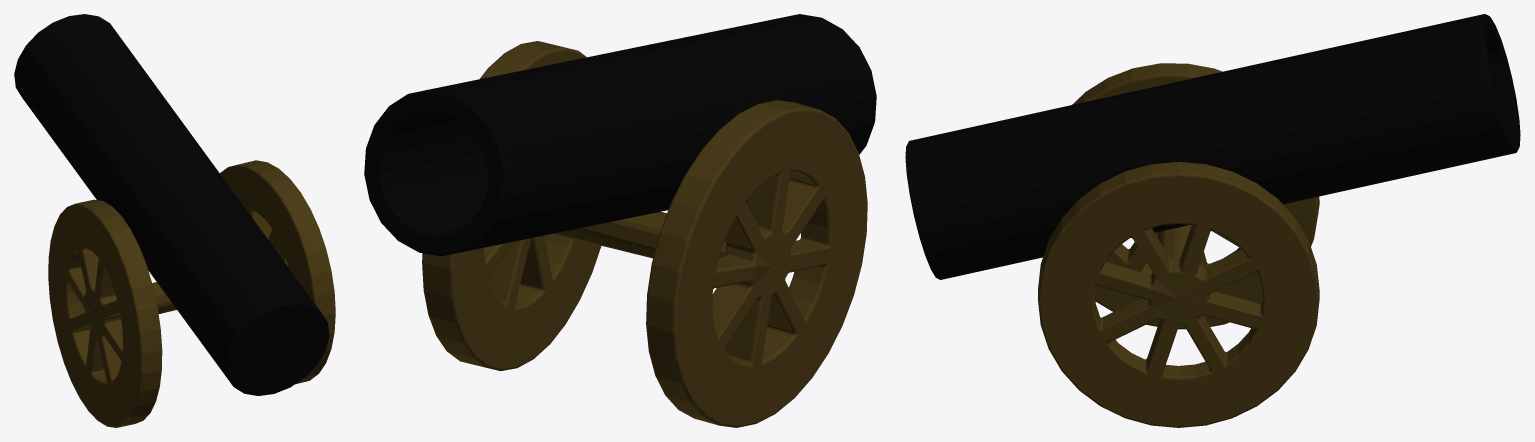
Rendered from Kanon.fbx.
The picture shows the model from 3 angles, left to right: view 1: azimuth 30°, elevation 25°; view 2: azimuth 150°, elevation 25°; view 3: azimuth 270°, elevation 25°; orthographic projection. The views are drawn at different scales.
Visible parts, largest first — view 1: kanon; view 2: kanon; view 3: kanon.
Part boxes in pixels (box(x1,y1,x2,y2)): kanon: box(14, 14, 335, 427); kanon: box(364, 14, 876, 427); kanon: box(905, 14, 1520, 427).
Bounding box in the file's own units: 79.94 × 113 × 176.
